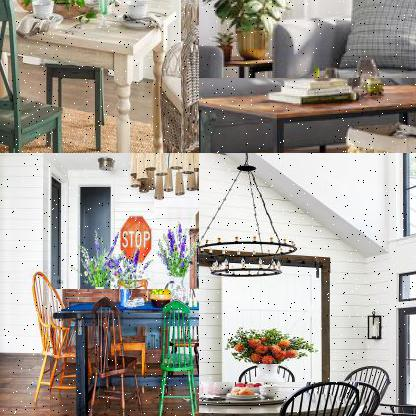table: (0, 0, 183, 152), (49, 289, 198, 415), (199, 78, 415, 152), (199, 381, 361, 415)
